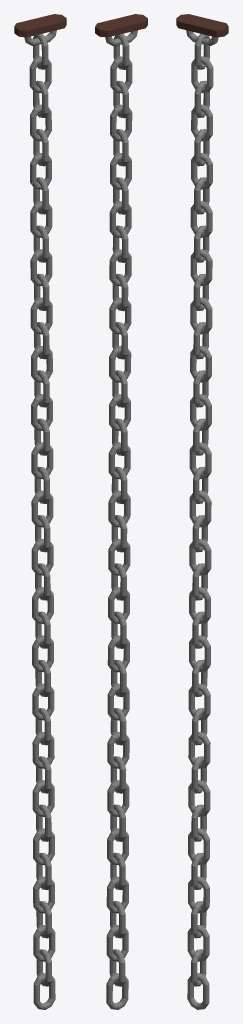
Rendered from corrente.fbx.
3 renders of one model, left to right at view 1: azimuth 30°, elevation 25°; view 2: azimuth 210°, elevation 25°; view 3: azimuth 330°, elevation 25°, orthographic.
Parts seen in each view (by area): view 1: Torus.011; view 2: Torus.011; view 3: Torus.011.
Boxes of the visible parts, box(x1,y1,x2,y2) form: Torus.011: box(14, 14, 66, 1009); Torus.011: box(95, 14, 147, 1009); Torus.011: box(176, 14, 228, 1009).
Size of the model in its own units: 30.29 by 595 by 17.59.
